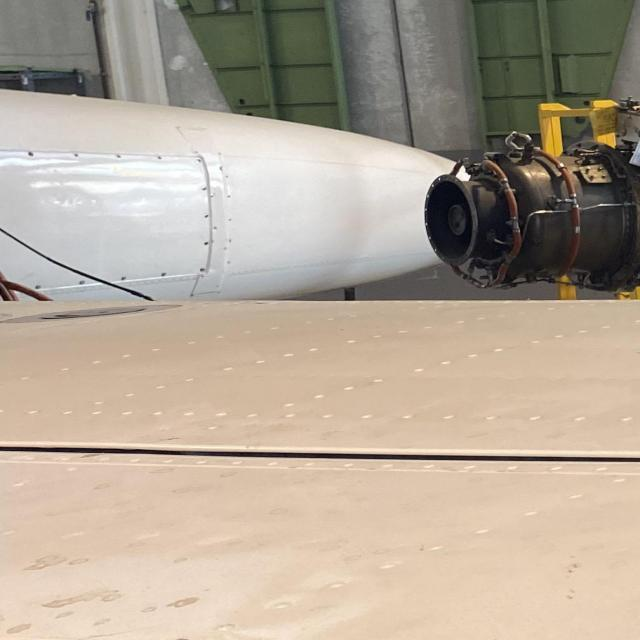Paint-off: (172, 637, 190, 640)
